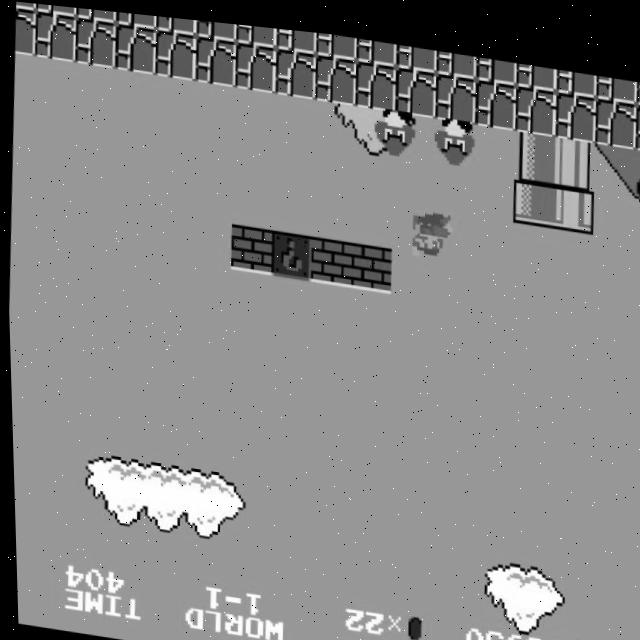1- brick_block: (348, 234, 392, 286), (308, 229, 352, 281), (228, 219, 272, 270)
11- little_mario: (410, 201, 456, 254)
13- mystery_block: (268, 224, 312, 276)
14- pipe: (552, 125, 596, 177), (512, 120, 556, 172)
15- pipe_head: (550, 171, 595, 222), (511, 165, 555, 216)
17- undestructible_block: (273, 42, 318, 94), (233, 37, 278, 88), (513, 74, 557, 126), (433, 63, 477, 115), (394, 58, 438, 110), (193, 31, 237, 83), (73, 15, 117, 67), (593, 85, 637, 136), (553, 80, 597, 131), (473, 69, 517, 120), (354, 53, 398, 104), (314, 48, 358, 99), (153, 26, 197, 77), (113, 21, 157, 72), (33, 10, 77, 61), (555, 57, 598, 86), (355, 30, 398, 59), (595, 63, 638, 91), (515, 52, 558, 80), (475, 47, 518, 75), (435, 41, 478, 69), (395, 36, 438, 64), (315, 26, 358, 53), (14, 7, 37, 56), (275, 22, 318, 48), (235, 19, 277, 43), (195, 16, 237, 37), (155, 13, 197, 32), (115, 9, 157, 27), (75, 6, 117, 22), (35, 3, 77, 16), (634, 90, 640, 137), (16, 1, 37, 10), (635, 68, 640, 92)
8- goomba: (432, 106, 479, 161), (372, 98, 419, 153)
